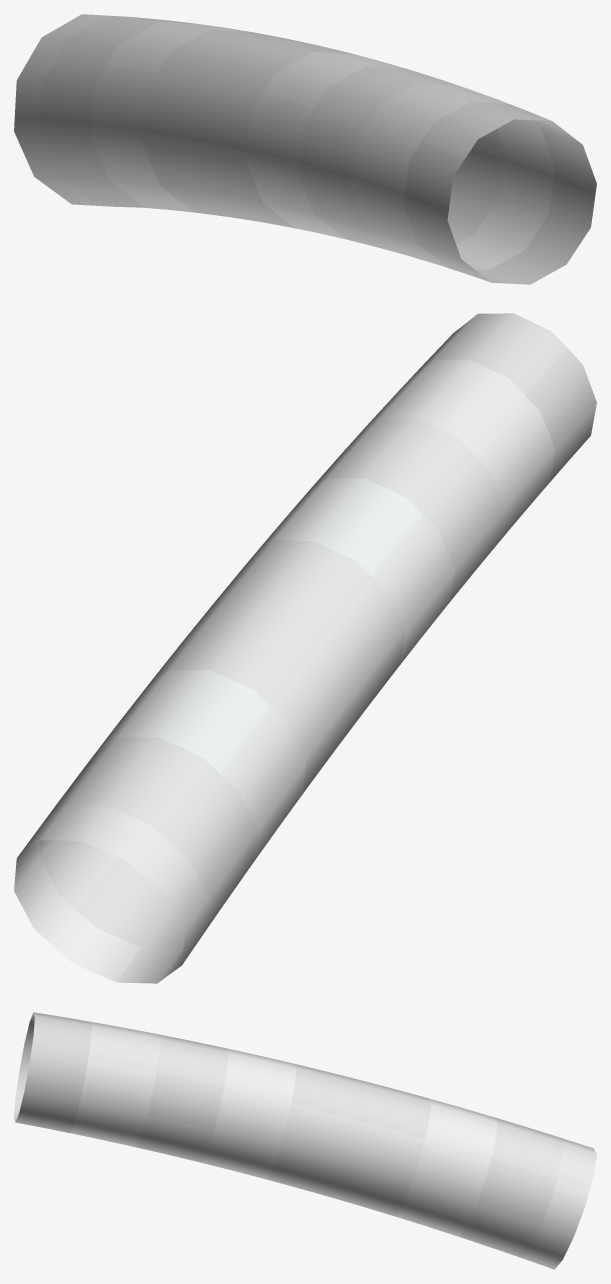
Rendered from luminairearm_caltrans8ftdouble_c5.obj.
3 renders of one model, top to bottom at view 1: azimuth 30°, elevation 25°; view 2: azimuth 150°, elevation 25°; view 3: azimuth 270°, elevation 25°, orthographic. The views are drawn at different scales.
Parts seen in each view (by area): view 1: luminairearm_caltrans8ftdouble_c5; view 2: luminairearm_caltrans8ftdouble_c5; view 3: luminairearm_caltrans8ftdouble_c5.
Boxes of the visible parts, bbox=[...] form: luminairearm_caltrans8ftdouble_c5: bbox=[14, 14, 596, 284]; luminairearm_caltrans8ftdouble_c5: bbox=[14, 313, 596, 983]; luminairearm_caltrans8ftdouble_c5: bbox=[14, 1012, 596, 1269].
Bounding box in the file's own units: 0.2333 × 0.4939 × 1.06.
